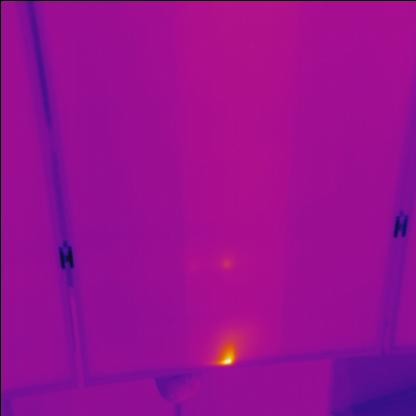hotspot: (213, 340, 237, 370)
